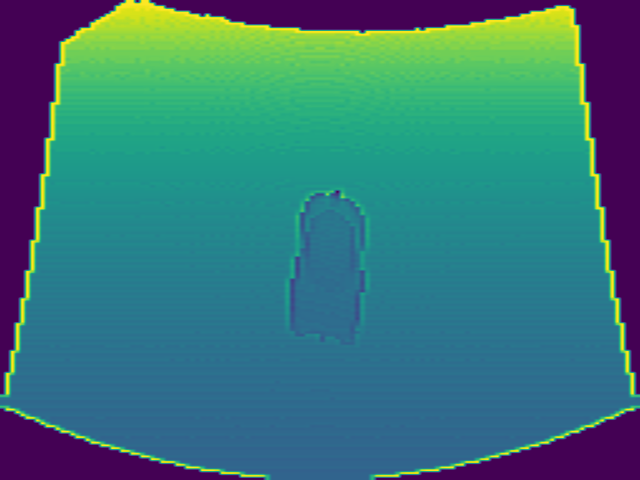car_0027: (283, 187, 370, 346)
